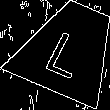L_NE: (42, 20, 96, 78)
